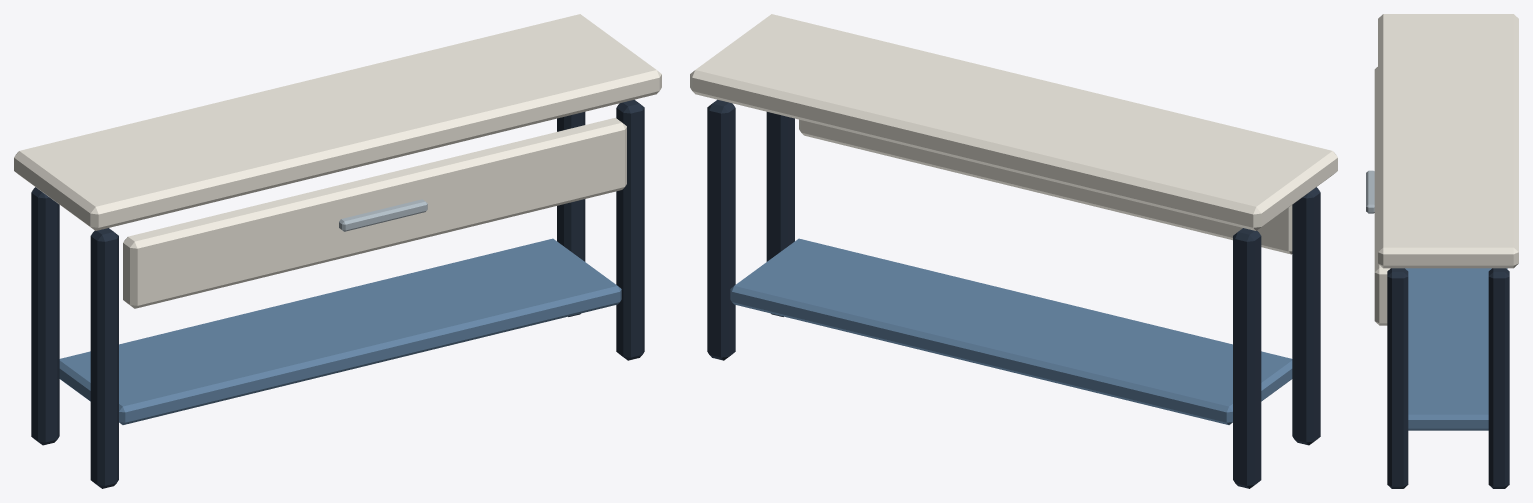
File: living_05.glb
3 renders of one model, left to right at view 1: azimuth 30°, elevation 25°; view 2: azimuth 150°, elevation 25°; view 3: azimuth 270°, elevation 25°, orthographic. The views are drawn at different scales.
Parts seen in each view (by area): view 1: ConsoleTop, ConsoleShelf, DrawerFace, Leg (×4), Handle; view 2: ConsoleTop, ConsoleShelf, Leg (×4), DrawerFace; view 3: ConsoleTop, ConsoleShelf, Leg (×2), DrawerFace, Handle.
Boxes of the visible parts, box(x1,y1,x2,y2) form: ConsoleTop: box(14, 14, 661, 230); ConsoleShelf: box(59, 238, 621, 424); DrawerFace: box(123, 117, 626, 308); Leg (×4): box(31, 99, 644, 488); Handle: box(339, 199, 427, 231); ConsoleTop: box(690, 14, 1337, 230); ConsoleShelf: box(730, 238, 1292, 424); Leg (×4): box(707, 99, 1320, 488); DrawerFace: box(799, 119, 1292, 254); ConsoleTop: box(1378, 14, 1518, 268); ConsoleShelf: box(1405, 268, 1507, 430); Leg (×2): box(1387, 268, 1509, 488); DrawerFace: box(1374, 67, 1390, 325); Handle: box(1366, 170, 1374, 213).
Bounding box in the file's own units: 1.6 × 0.7725 × 0.434.
